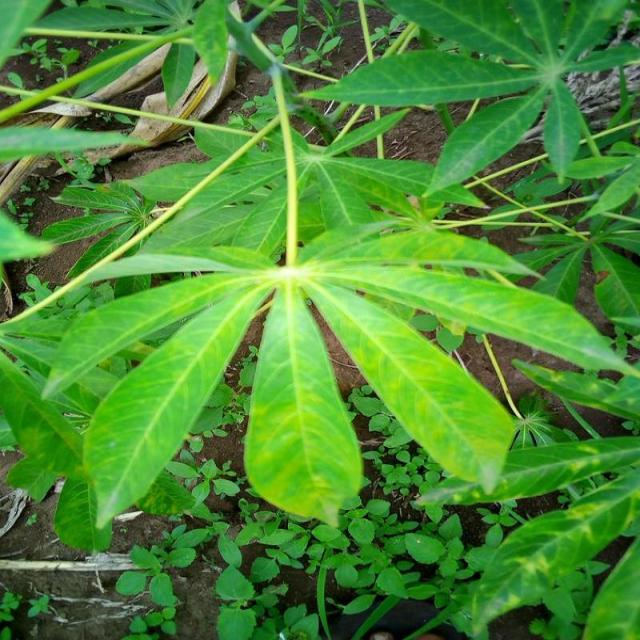cassava leaf: (1, 8, 638, 554), (242, 281, 366, 528)
